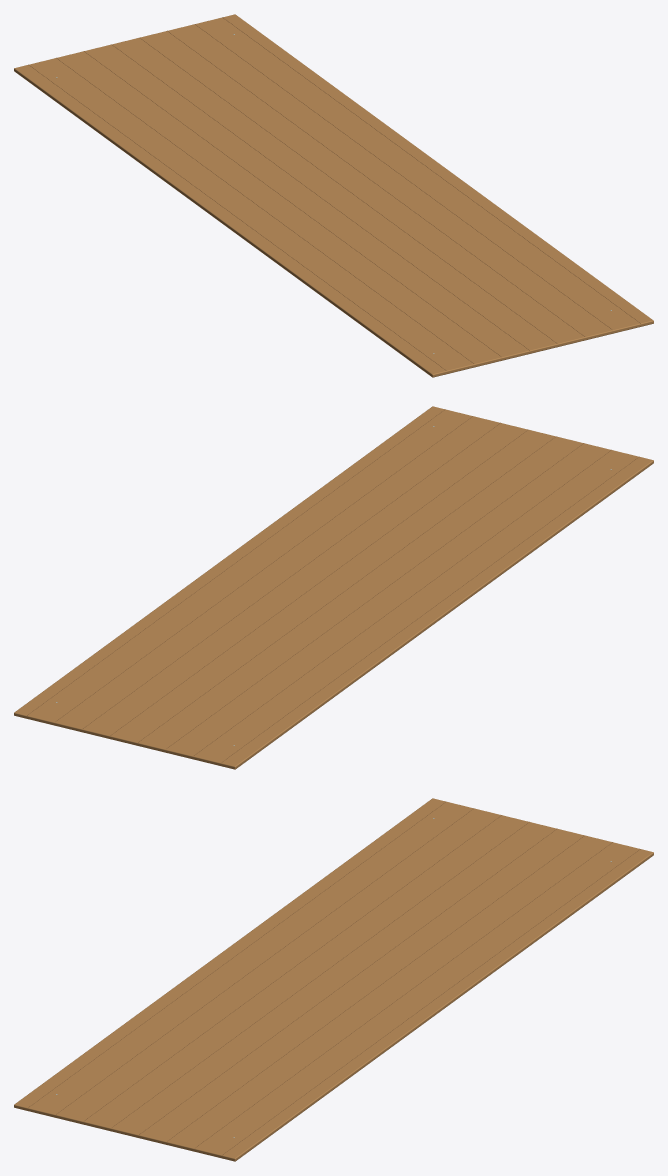
File: dishwasher-lower-board-light.glb
The picture shows the model from 3 angles, top to bottom: view 1: azimuth 30°, elevation 25°; view 2: azimuth 150°, elevation 25°; view 3: azimuth 330°, elevation 25°; orthographic projection.
Parts seen in each view (by area): view 1: wood, edge; view 2: wood, edge; view 3: wood, edge.
Boxes of the visible parts, <box> form: wood: <box>14,14,653,377</box>; edge: <box>28,17,640,370</box>; wood: <box>14,406,653,769</box>; edge: <box>27,409,639,762</box>; wood: <box>14,798,653,1161</box>; edge: <box>28,801,640,1154</box>.
Size of the model in its own units: 10 by 0.161 by 32.71.
